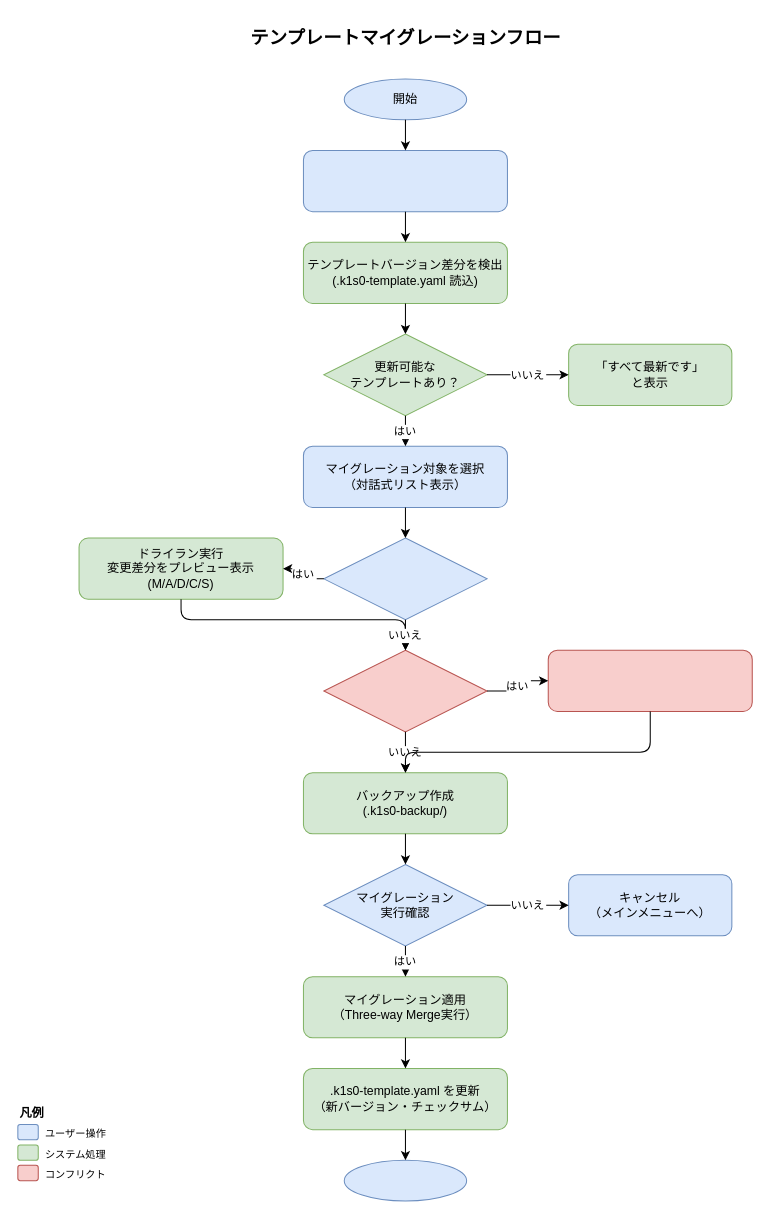
Image size: 770x1219. Some labels were removed from this diagram. Here are the shapes that lost their labels. From the top down, the centre of each, then its label:
(404,180): メインメニューから 「テンプレートマイグレーション」 を選択
(405,578): 変更を プレビュー？
(405,690): コンフリクト あり？
(649,680): コンフリクト解決 （テンプレート優先/ユーザー優先/ マージエディタ/スキップ）
(405,1180): 完了
